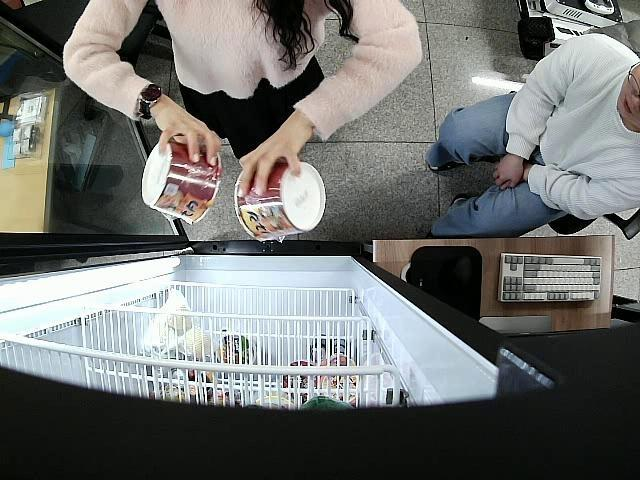05_nuguri_L: (234, 160, 327, 240), (140, 141, 223, 224)
